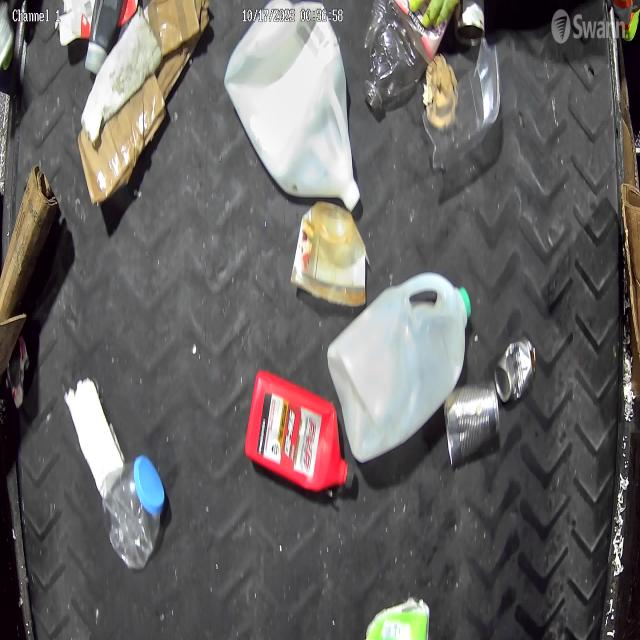milk-jug: (327, 272, 473, 463)
